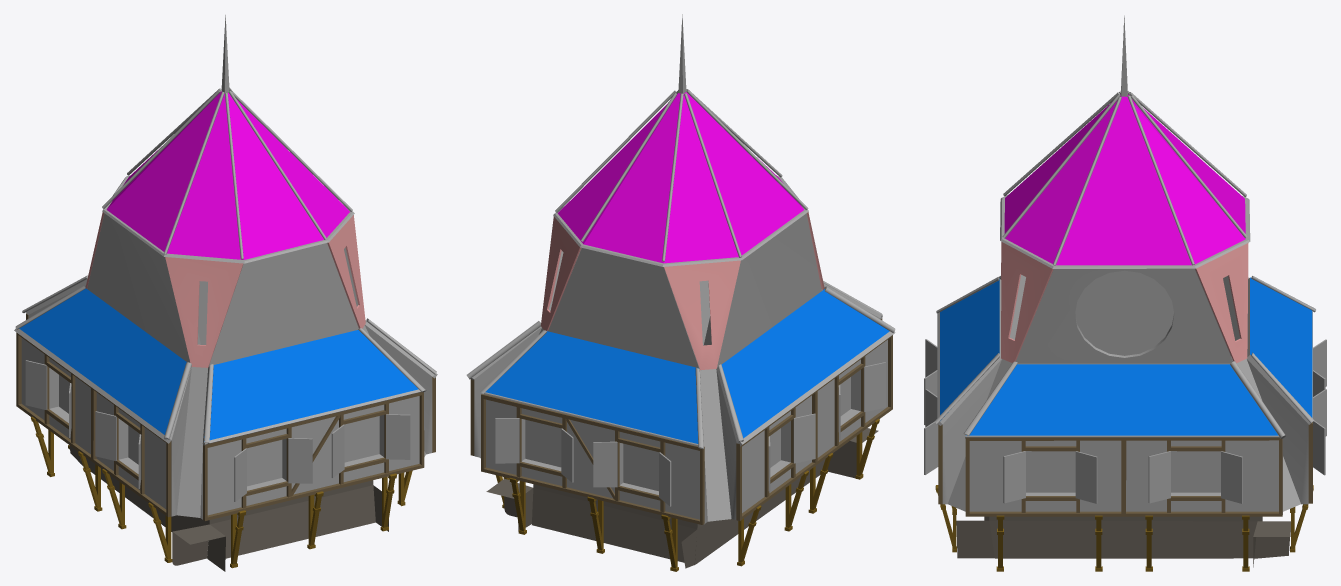
Rendered from strucutresecond floor.fbx.
3 views of the same model, side by side, from view 1: azimuth 30°, elevation 25°; view 2: azimuth 150°, elevation 25°; view 3: azimuth 270°, elevation 25° (orthographic). The views are drawn at different scales.
Visible parts, largest first — view 1: polySurface632; view 2: polySurface632; view 3: polySurface632.
Boxes of the visible parts, x1,y1,x2,y2 form: polySurface632: (14,15,437,571); polySurface632: (466,14,895,571); polySurface632: (924,15,1326,571).
Size of the model in its own units: 528 by 834 by 607.
